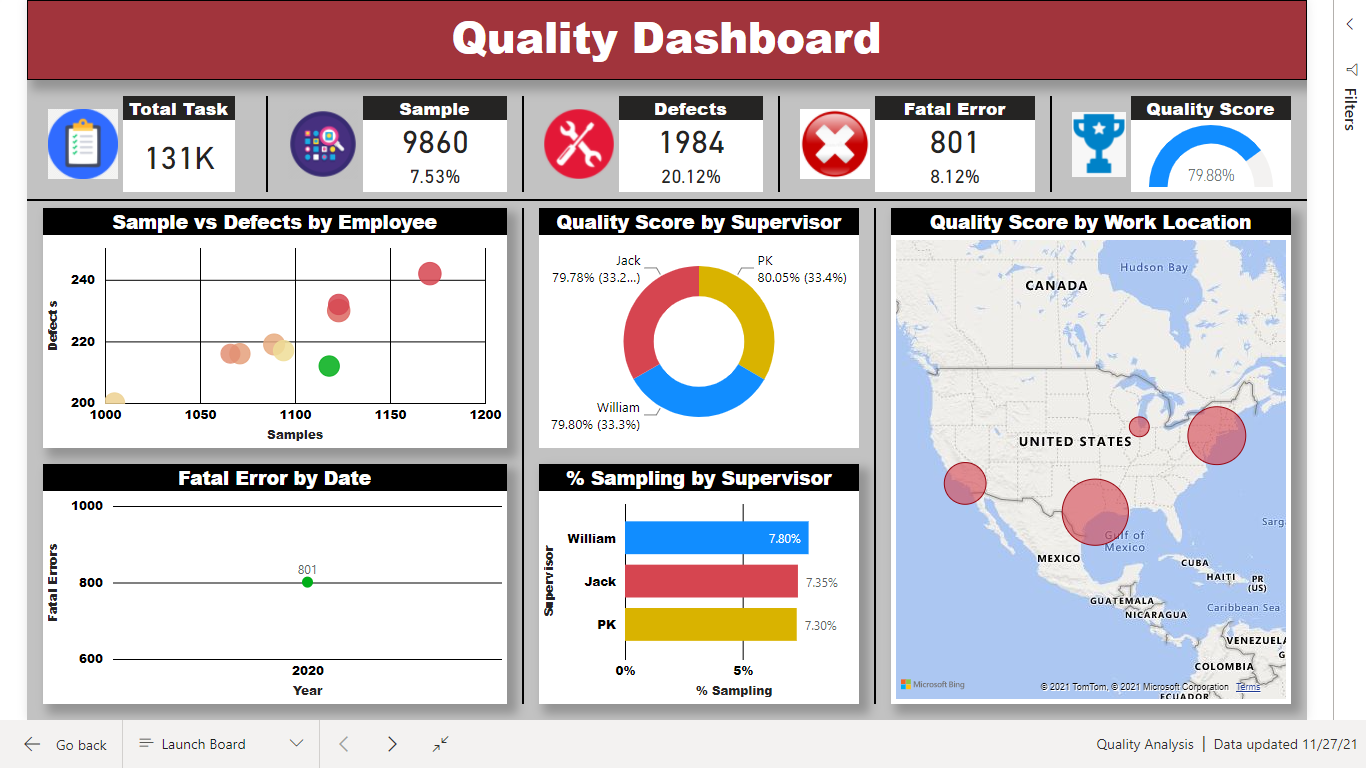

What the dashboard file says about the page in this screenshot:
{"tool":"powerbi","page":{"name":"Launch Board","canvas":[1280,720],"ordinal":0},"visuals":[{"type":"textbox","box":[0,0,1280,80],"z":1000},{"type":"image","box":[16,96,80,96],"z":2000},{"type":"card","title":"Sample","fields":{"Values":["All Measures.Total Samples"]},"box":[336,96,144,64],"z":3000},{"type":"card","title":"Defects","fields":{"Values":["All Measures.Total Defects"]},"box":[592,96,144,64],"z":4000},{"type":"card","title":"Fatal Error","fields":{"Values":["All Measures.Total Fatal Error"]},"box":[848,96,160,64],"z":5000},{"type":"gauge","title":"Quality Score","fields":{"Y":["All Measures.Quality Score"]},"box":[1104,96,160,96],"z":6000},{"type":"card","title":"Total Task","fields":{"Values":["All Measures.Total Tasks"]},"box":[96,96,112,96],"z":7000},{"type":"image","box":[256,96,80,96],"z":8000},{"type":"image","box":[512,96,80,96],"z":9000},{"type":"image","box":[768,96,80,96],"z":10000},{"type":"card","fields":{"Values":["All Measures.% Sampling"]},"box":[336,160,144,32],"z":11000},{"type":"card","fields":{"Values":["All Measures.% Fatal Error"]},"box":[848,160,160,32],"z":12000},{"type":"card","fields":{"Values":["All Measures.% Defects"]},"box":[592,160,144,32],"z":13000},{"type":"image","box":[1040,96,64,96],"z":13001},{"type":"shape","box":[0,192,1280,16],"z":13002},{"type":"shape","box":[224,96,32,96],"z":13003},{"type":"shape","box":[1008,96,32,96],"z":13004},{"type":"shape","box":[736,96,32,96],"z":13005},{"type":"shape","box":[480,96,32,96],"z":13006},{"type":"scatterChart","title":"Sample vs Defects by Employee","fields":{"X":["Sum(f-QualityData.Samples)"],"Y":["Sum(f-QualityData.Defects)"],"Category":["f-QualityData.Emp ID"],"Size":["Sum(f-QualityData.Fatal Errors)"]},"box":[16,208,464,240],"z":13008},{"type":"areaChart","title":"Fatal Error by Date","fields":{"Category":["f-QualityData.Date.Variation.Date Hierarchy.Year","f-QualityData.Date.Variation.Date Hierarchy.Quarter","f-QualityData.Date.Variation.Date Hierarchy.Month","f-QualityData.Date.Variation.Date Hierarchy.Day"],"Y":["Sum(f-QualityData.Fatal Errors)"]},"box":[16,464,464,240],"z":13009},{"type":"donutChart","title":"Quality Score by Supervisor","fields":{"Category":["d-EmpMaster.Supervisor"],"Y":["All Measures.Quality Score"]},"box":[512,208,320,240],"z":13010},{"type":"shape","box":[480,208,32,496],"z":13011},{"type":"clusteredBarChart","title":"% Sampling by Supervisor","fields":{"Category":["d-EmpMaster.Supervisor"],"Y":["All Measures.% Sampling"]},"box":[512,464,320,240],"z":13012},{"type":"shape","box":[832,208,32,496],"z":13013},{"type":"map","fields":{"Category":["d-EmpMaster.Work Location"],"Size":["All Measures.Quality Score"]},"box":[864,208,400,496],"z":13014}]}

Visuals, with their boxes on the page's 1280x720 design canvas (x1, y1, x2, y2). These are canvas units, not pixel positions in the 1366x768 screenshot, which may show the page scaled, cropped or inside an application window:
textbox: crop(0, 0, 1280, 80)
image: crop(16, 96, 96, 192)
"Sample" card: crop(336, 96, 480, 160)
"Defects" card: crop(592, 96, 736, 160)
"Fatal Error" card: crop(848, 96, 1008, 160)
"Quality Score" gauge: crop(1104, 96, 1264, 192)
"Total Task" card: crop(96, 96, 208, 192)
image: crop(256, 96, 336, 192)
image: crop(512, 96, 592, 192)
image: crop(768, 96, 848, 192)
card - All Measures.% Sampling: crop(336, 160, 480, 192)
card - All Measures.% Fatal Error: crop(848, 160, 1008, 192)
card - All Measures.% Defects: crop(592, 160, 736, 192)
image: crop(1040, 96, 1104, 192)
shape: crop(0, 192, 1280, 208)
shape: crop(224, 96, 256, 192)
shape: crop(1008, 96, 1040, 192)
shape: crop(736, 96, 768, 192)
shape: crop(480, 96, 512, 192)
"Sample vs Defects by Employee" scatterChart: crop(16, 208, 480, 448)
"Fatal Error by Date" areaChart: crop(16, 464, 480, 704)
"Quality Score by Supervisor" donutChart: crop(512, 208, 832, 448)
shape: crop(480, 208, 512, 704)
"% Sampling by Supervisor" clusteredBarChart: crop(512, 464, 832, 704)
shape: crop(832, 208, 864, 704)
map - d-EmpMaster.Work Location x All Measures.Quality Score: crop(864, 208, 1264, 704)
